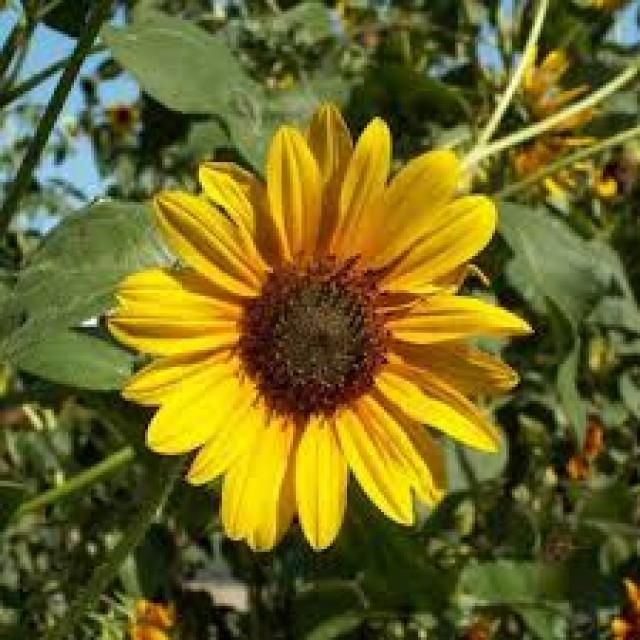sunflower: (98, 97, 541, 558), (510, 48, 596, 146), (501, 119, 594, 202), (534, 412, 607, 496), (85, 586, 182, 640), (588, 138, 636, 216), (606, 569, 637, 640)
